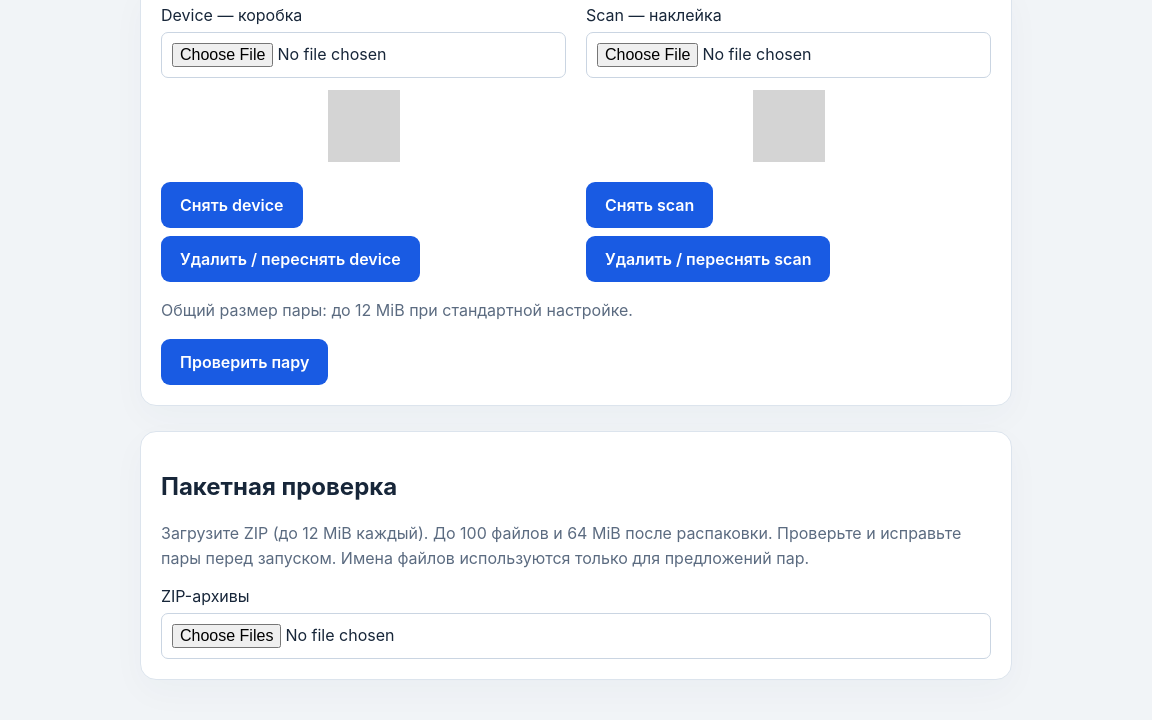
shows insufficient-evidence rejection separately from a proven defect
Earlier steps of the test are not shown.
(page scrolled)
Click the button "Проверить пару".
click(245, 362)  # box [161,339,328,385]
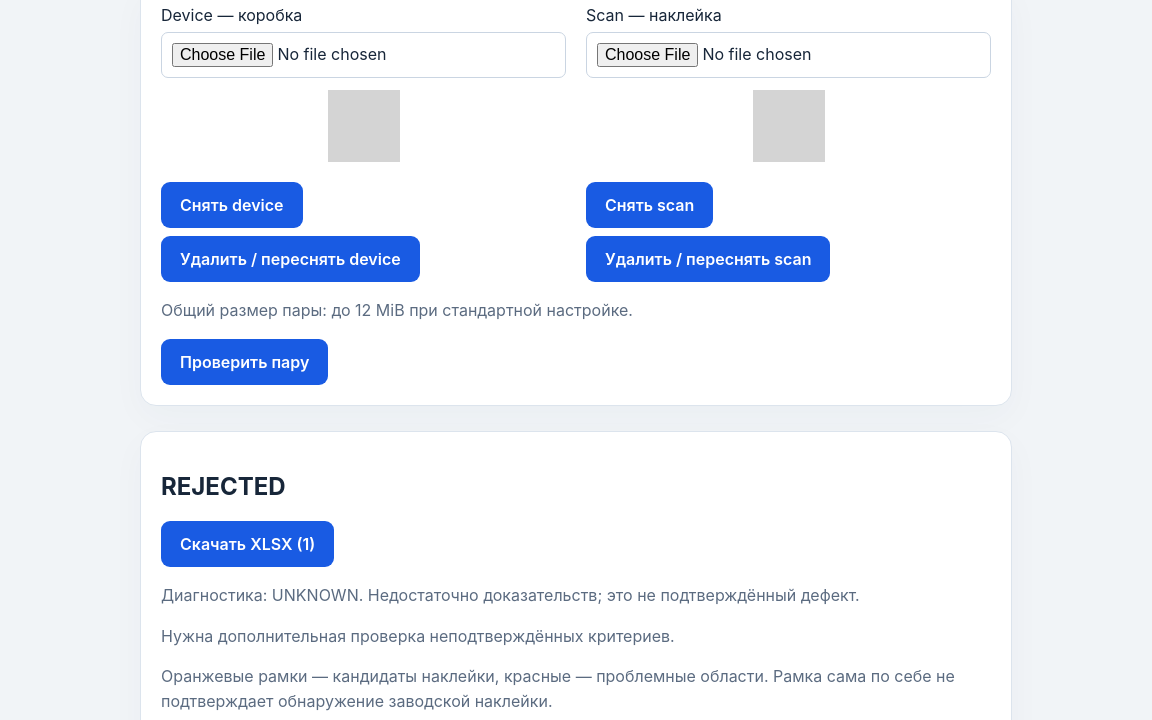
Expected: the heading "REJECTED" is shown, [161,472,286,501]
Expected: the text "Недостаточно доказательств; это не подтверждённый дефект" is shown, [368,585,860,605]
